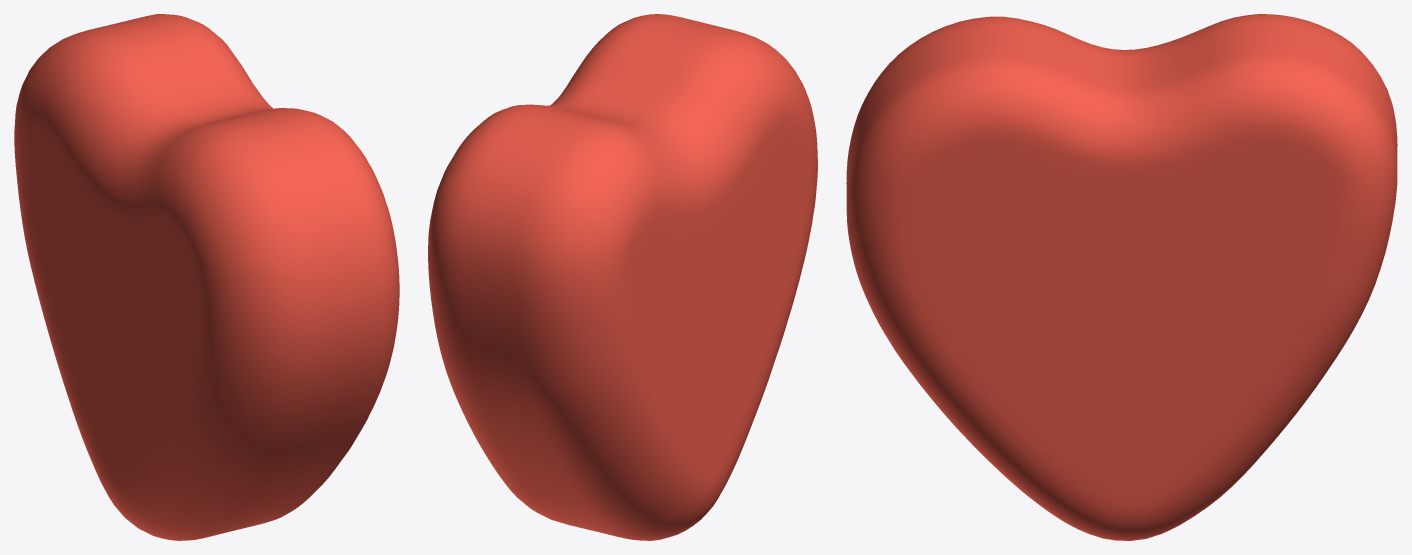
The model's file is Heart_Pill_Individual_Red-v1.glb.
The picture shows the model from 3 angles, left to right: view 1: azimuth 30°, elevation 25°; view 2: azimuth 150°, elevation 25°; view 3: azimuth 270°, elevation 25°; orthographic projection. The views are drawn at different scales.
Parts seen in each view (by area): view 1: Heart_Pill.003; view 2: Heart_Pill.003; view 3: Heart_Pill.003.
Part boxes in pixels (bbox=[...]): Heart_Pill.003: bbox=[14, 14, 399, 540]; Heart_Pill.003: bbox=[428, 14, 817, 540]; Heart_Pill.003: bbox=[846, 14, 1397, 540].
Size of the model in its own units: 0.5998 by 1.44 by 1.5.
1 material, 1 textured.
